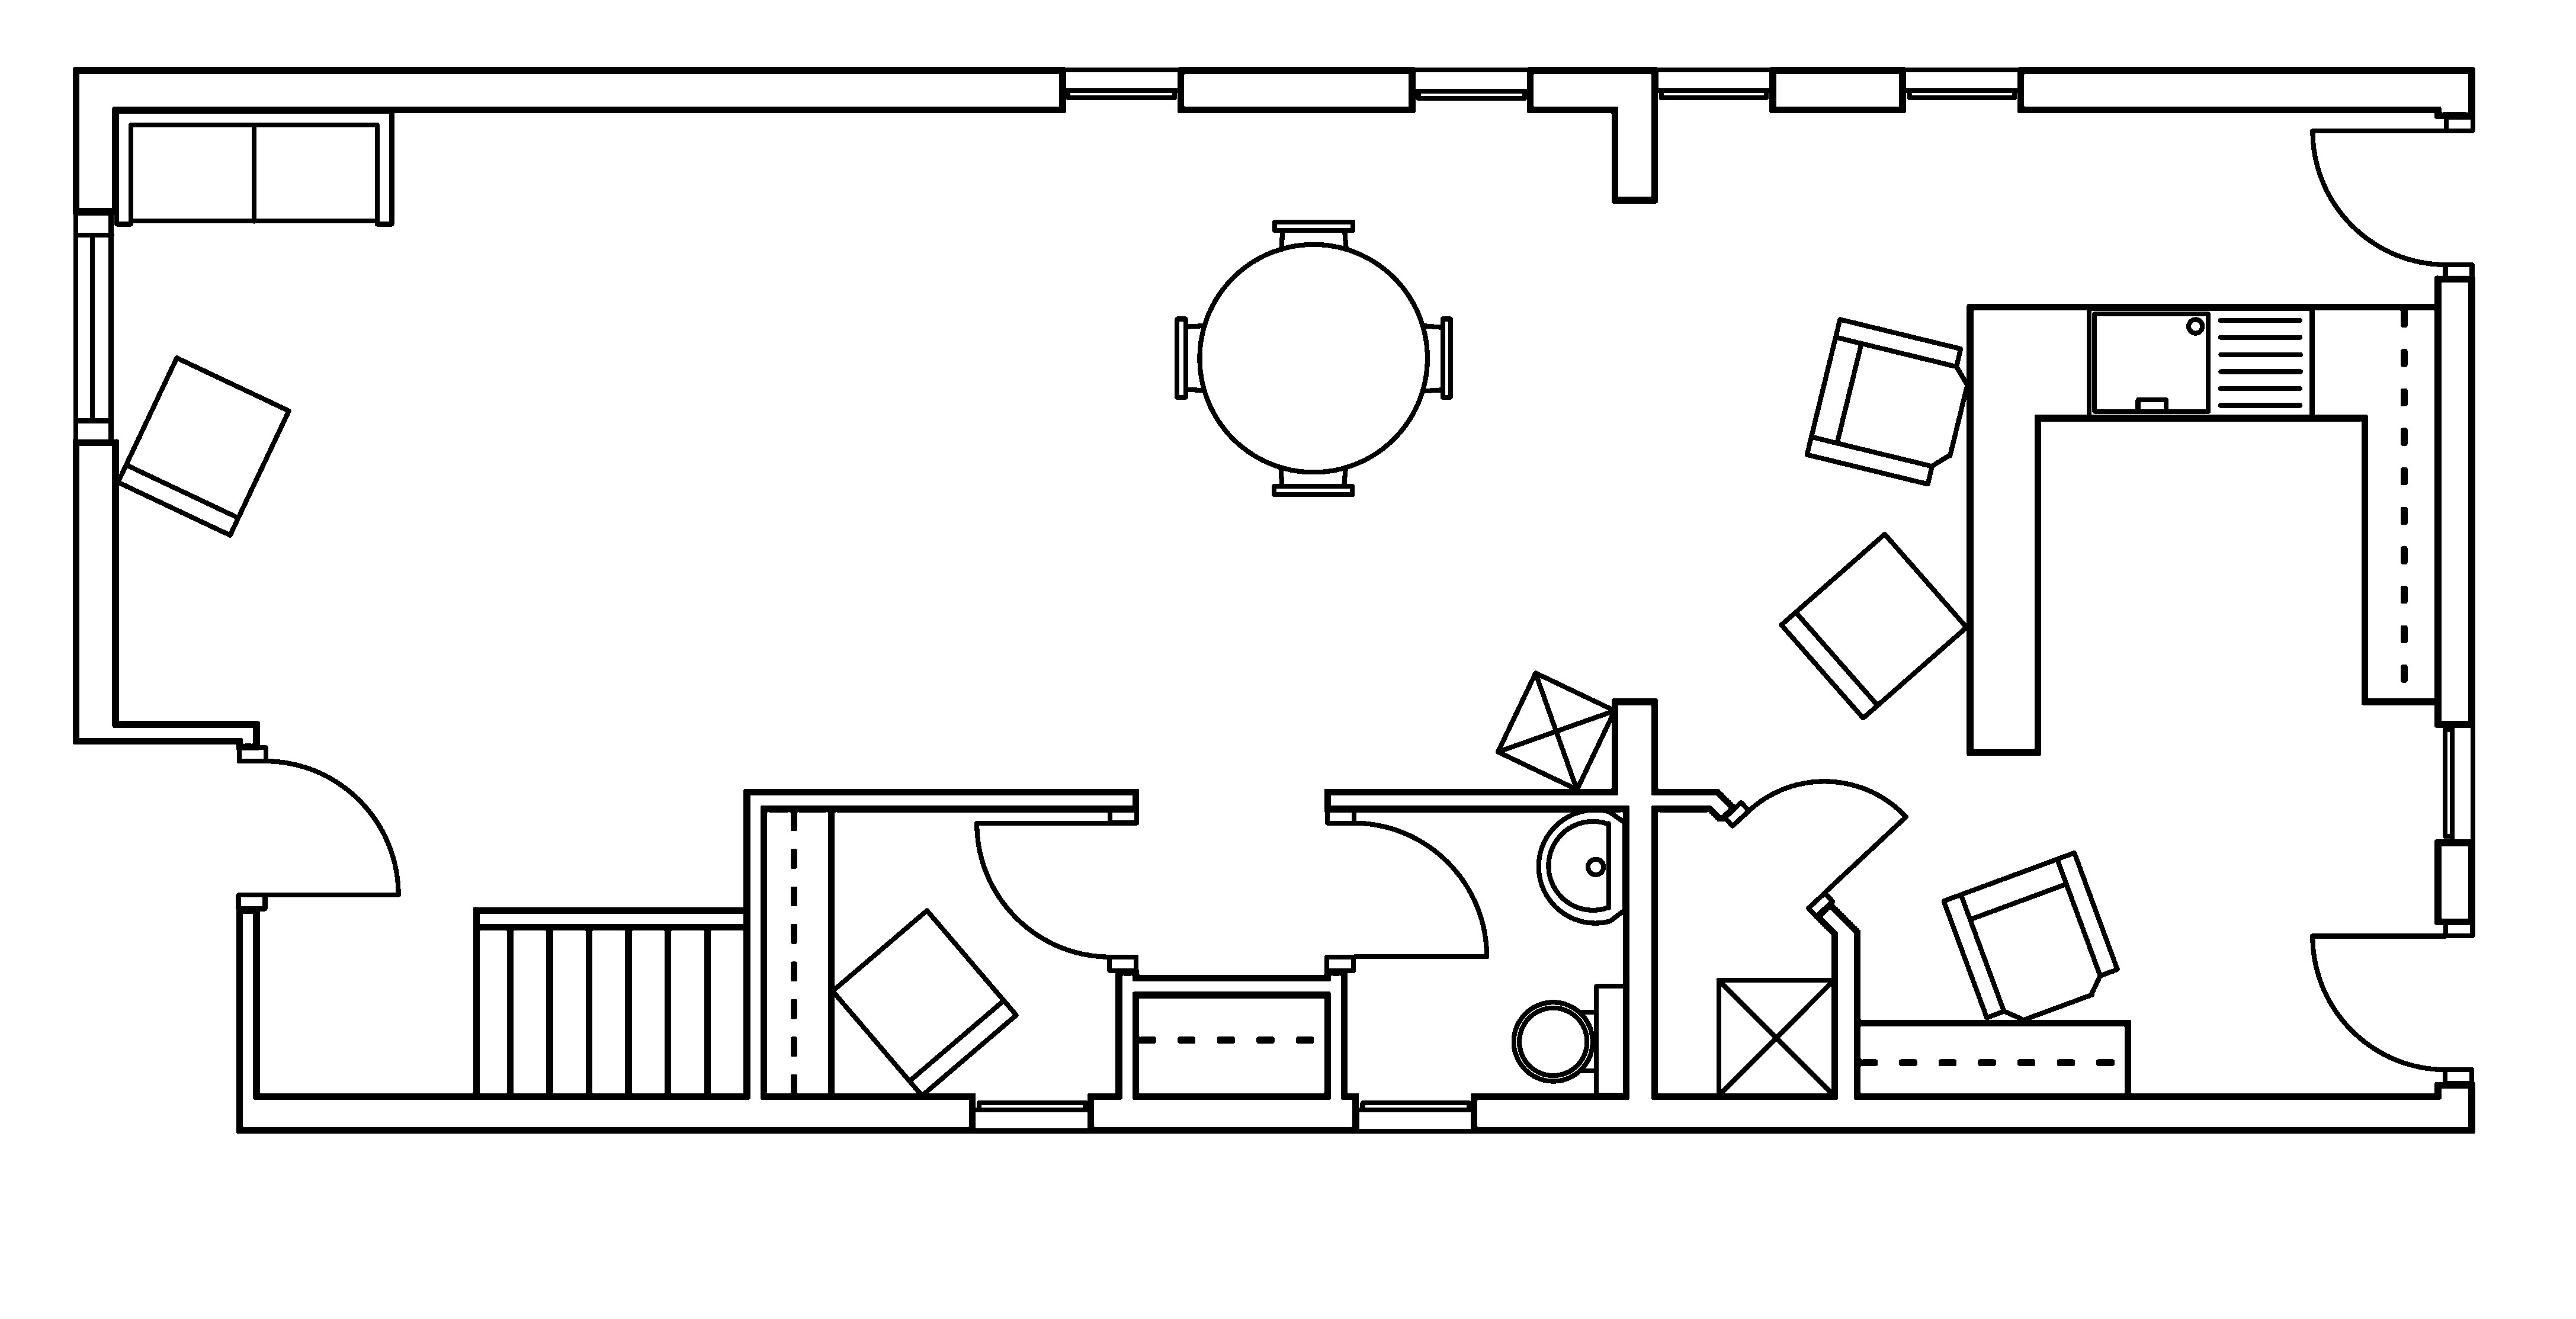armchair: (1940, 850, 2120, 1023), (1803, 316, 1971, 486)
coffee_table: (1493, 670, 1618, 792), (1715, 976, 1836, 1099)
large_sink: (1512, 983, 1628, 1097)
large_sofa: (113, 108, 395, 227)
round_table: (1174, 219, 1453, 496)
sink: (2085, 305, 2314, 421)
small_sink: (1535, 808, 1628, 925)
small_sofa: (1777, 530, 1969, 720), (829, 907, 1019, 1099), (114, 355, 291, 538)
